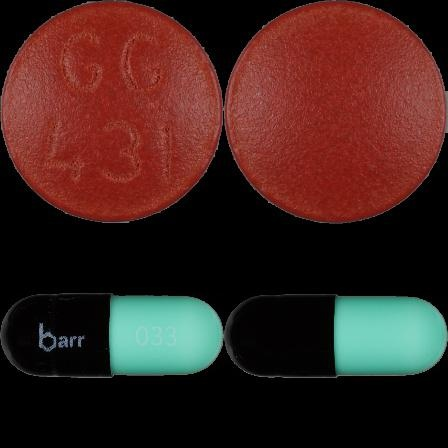54868-0066: (0, 0, 224, 224)
